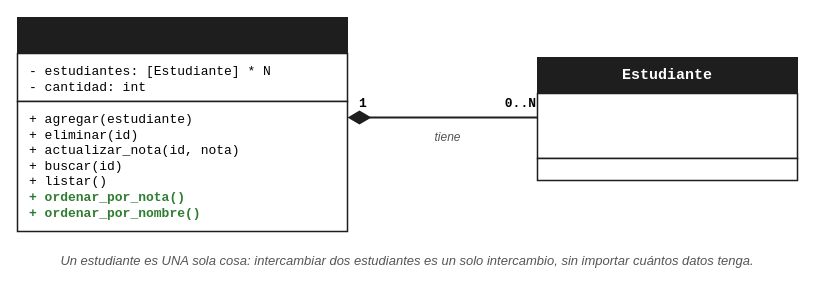
This 816x291 diagram has some shape labels left out. The centre of each missing label's shape, as x and y in pixels:
"- id: str - nombre: str - nota: float" belongs at (667,125).
"Curso" belongs at (182,35).
